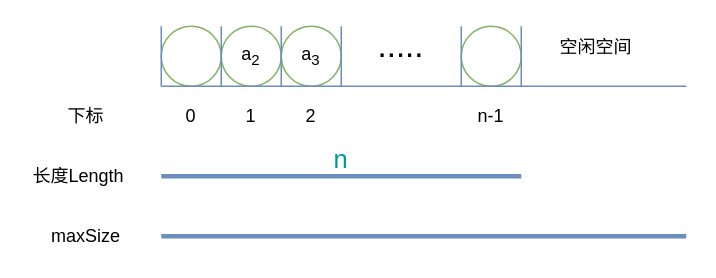
The diagram is 716 pixels wide and 278 high, and some of its shapes have lost their labels. Each missing label, with the centre of its shape:
"a 1" belongs at pixel 190 55.
"a n" belongs at pixel 490 55.
